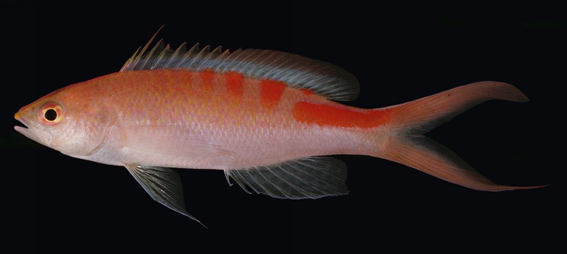fish: (13, 26, 546, 227)
